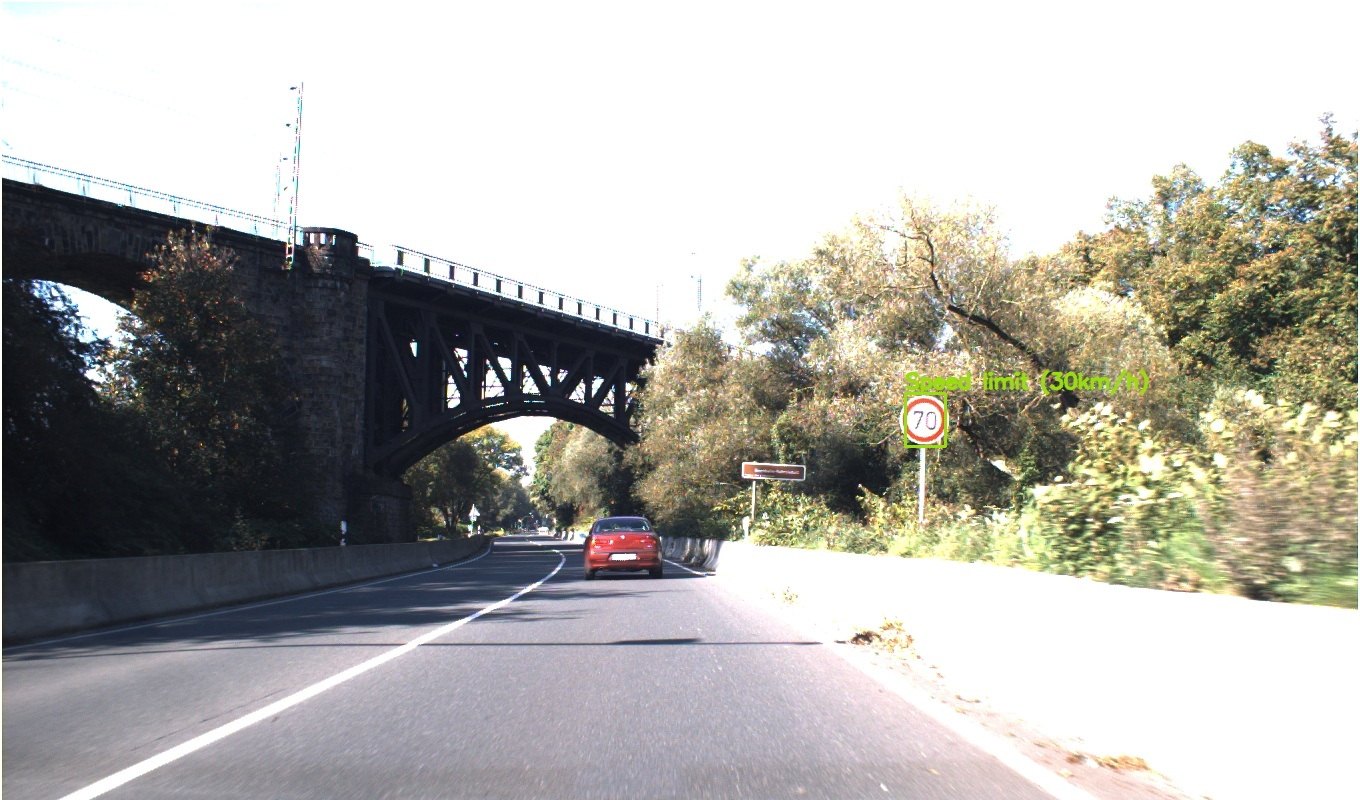Speed limit (50km/h): (817, 459, 838, 480)
